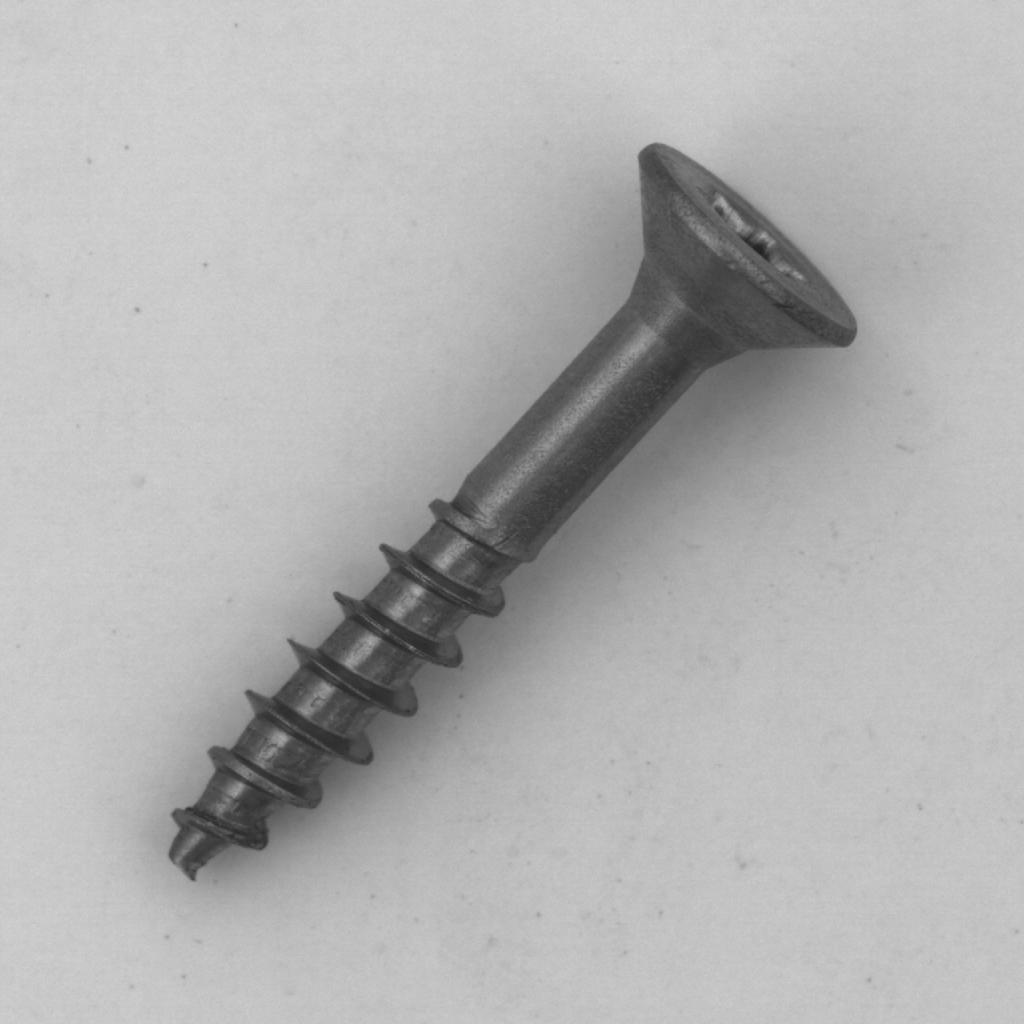manipulated_front: (117, 122, 900, 930)
